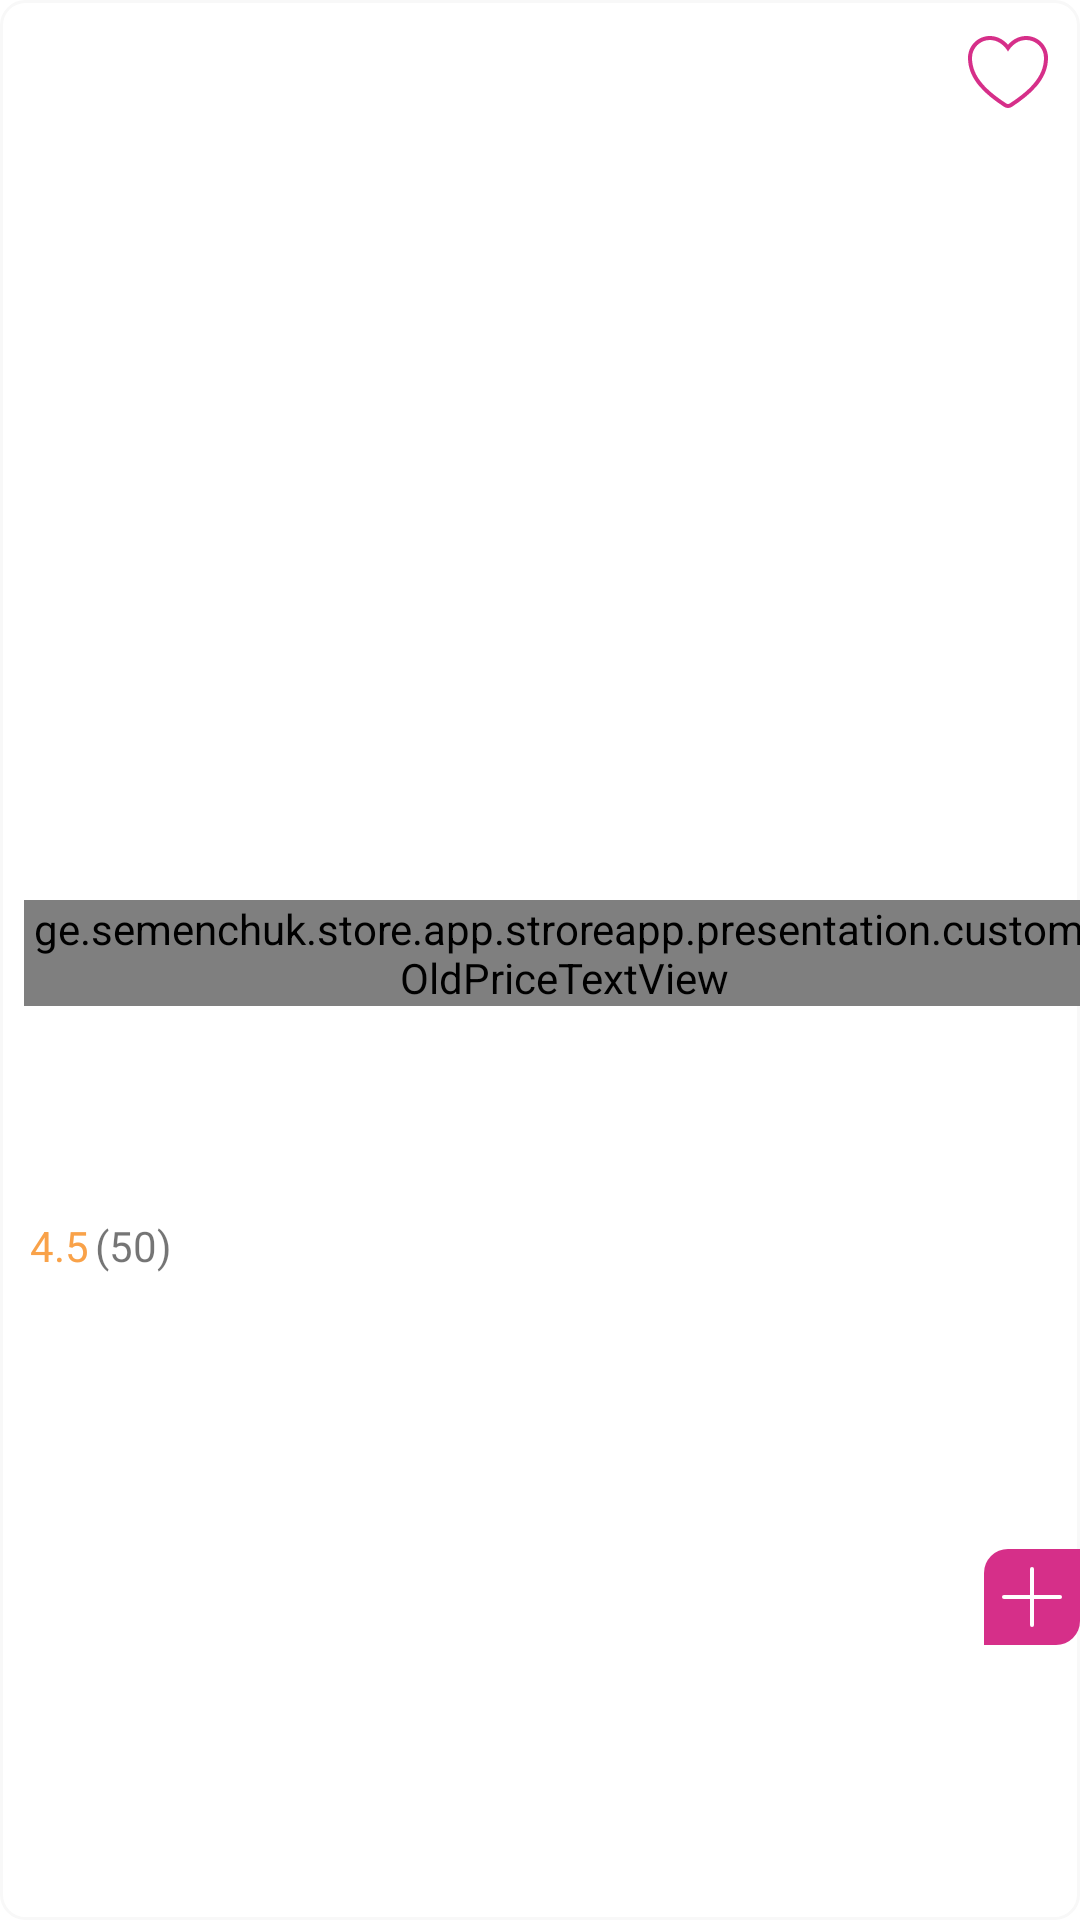

Named icons in this screenshot (1080w x 1920h) and their bounding boxes, (x1, y1, x2, y2):
Add to cart: (984, 1549, 1080, 1645)
Add to favorite: (968, 36, 1048, 108)
